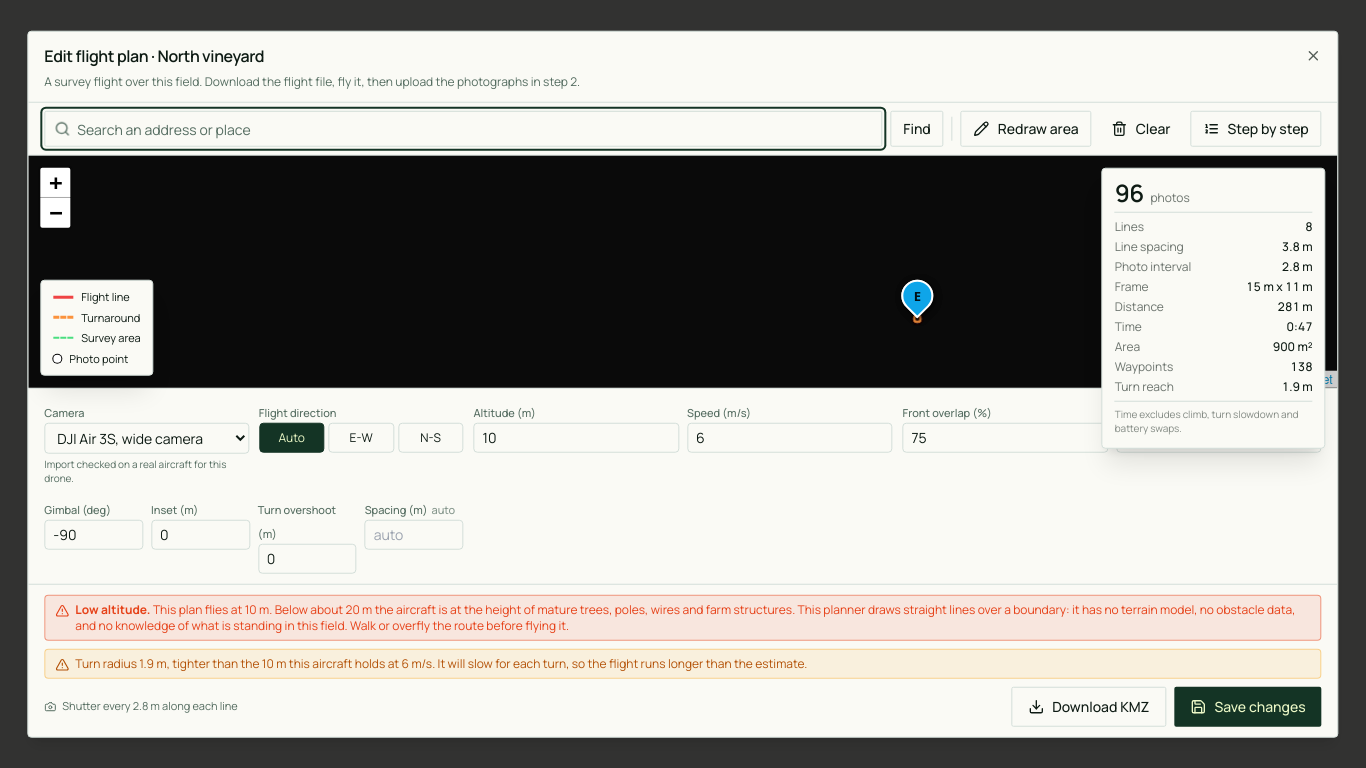
it: the confirmation the operator has to answer › does not build a file until the confirmation is answered
Later steps or results of the test are not shown.
Click the button "Download KMZ" at {"x": 1089, "y": 706}, box top-left (1011, 686), bottom-right (1166, 726)
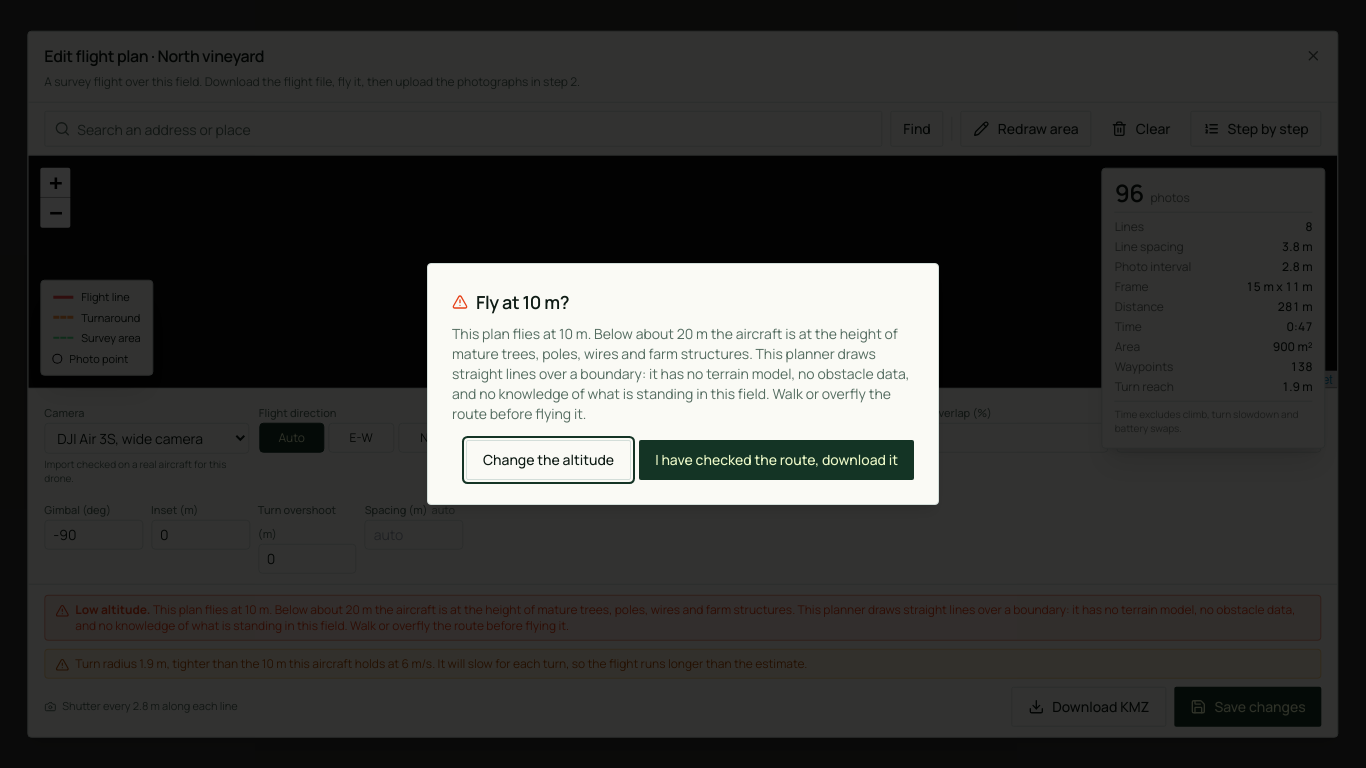
Check: the dialog that starts with "Fly at" is shown, box top-left (427, 263), bottom-right (939, 505)
